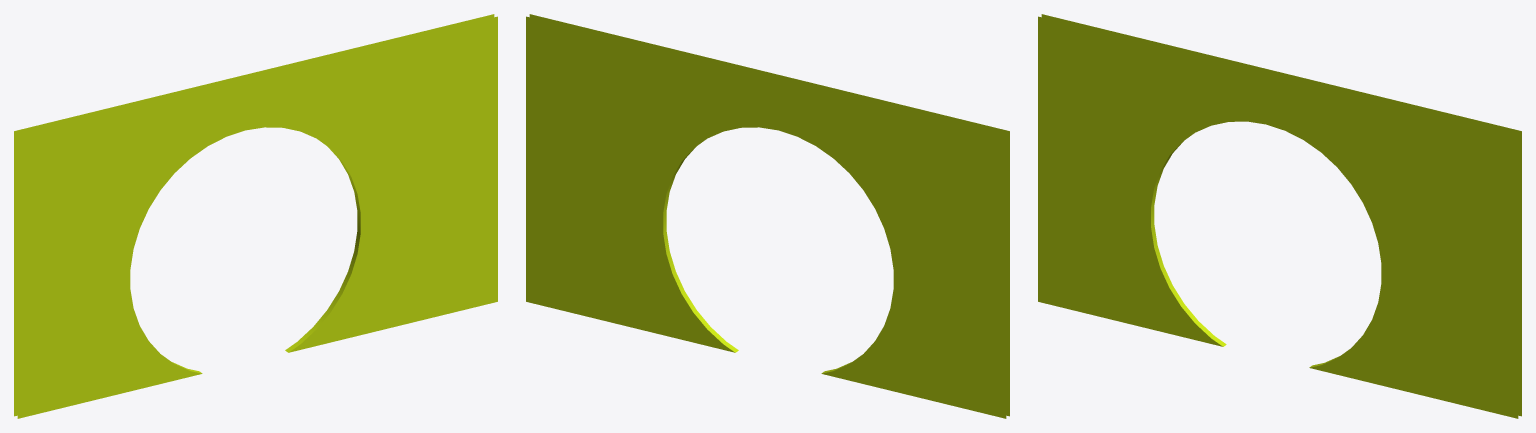
The model's file is Seperator Wall.FBX.
3 views of the same model, side by side, from view 1: azimuth 30°, elevation 25°; view 2: azimuth 150°, elevation 25°; view 3: azimuth 330°, elevation 25° (orthographic).
Visible parts, largest first — view 1: Box003; view 2: Box003; view 3: Box003.
Boxes of the visible parts, x1,y1,x2,y2 form: Box003: (14,14,497,418); Box003: (526,14,1009,418); Box003: (1038,14,1521,418).
Size of the model in its own units: 169 by 96 by 2.08.
